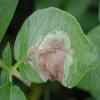Potato leaf late blight: (13, 7, 100, 92)
